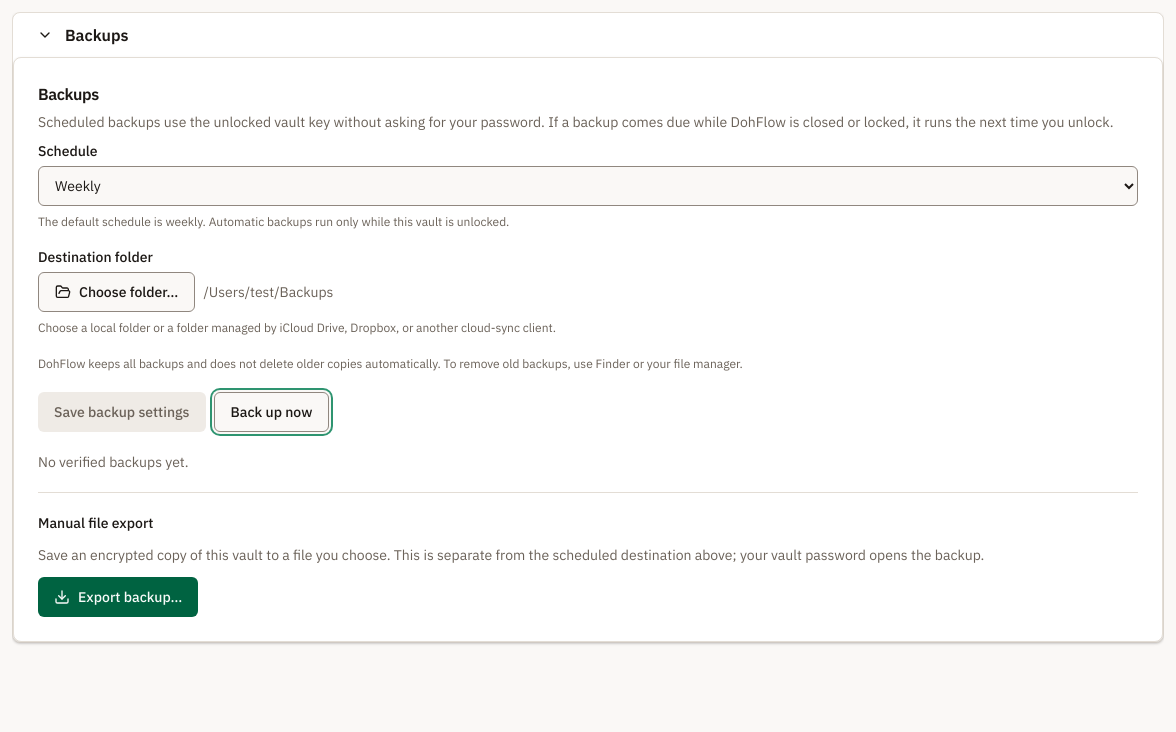
Backups › hands focus to Back up now in the slot when a backup fails, and back to the body when it works
Click the button "Back up now" at (271, 412), box [214,392,329,432]
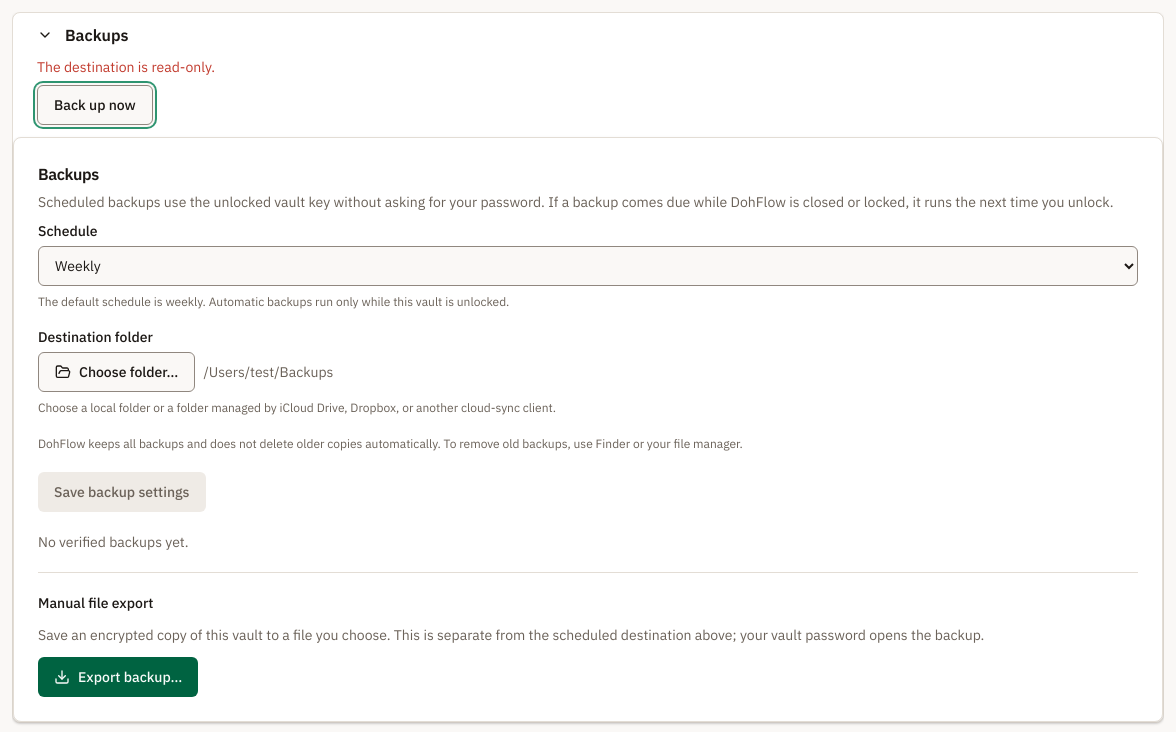
Result: the text "The destination is read-only." is shown at [37,58,215,76]
Click the button "Back up now" at (95, 105), box [37,85,153,125]
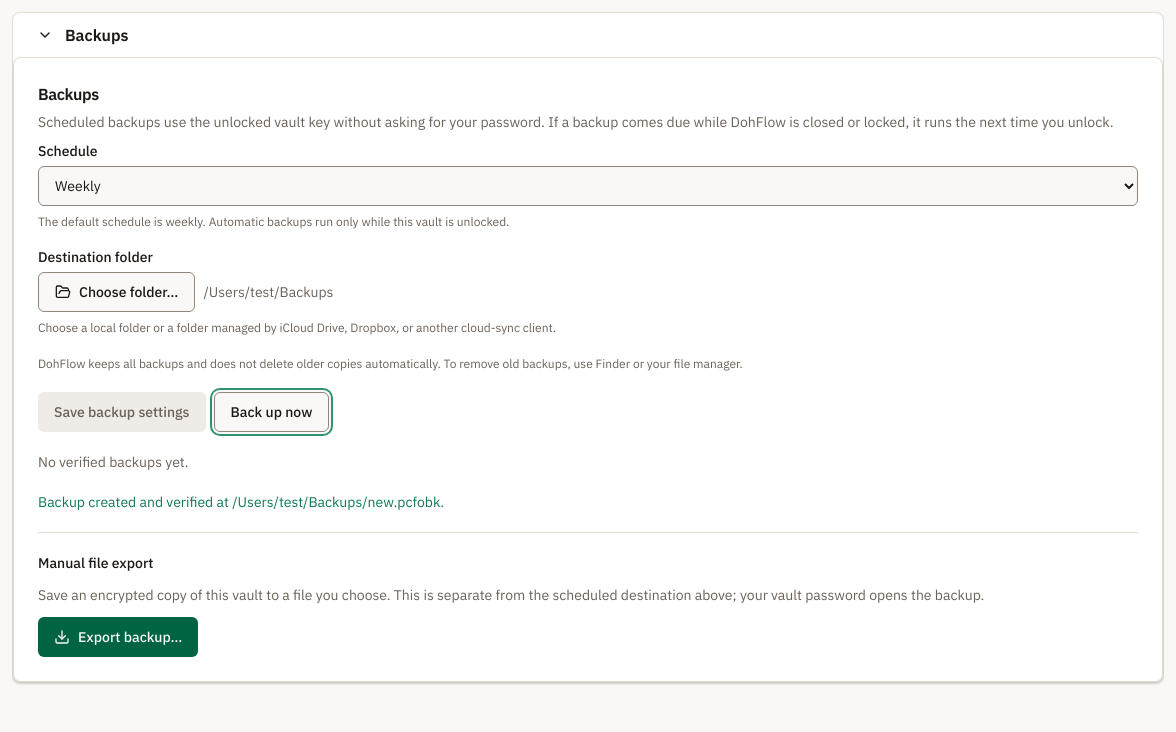
Result: the text "The destination is read-only." is gone
